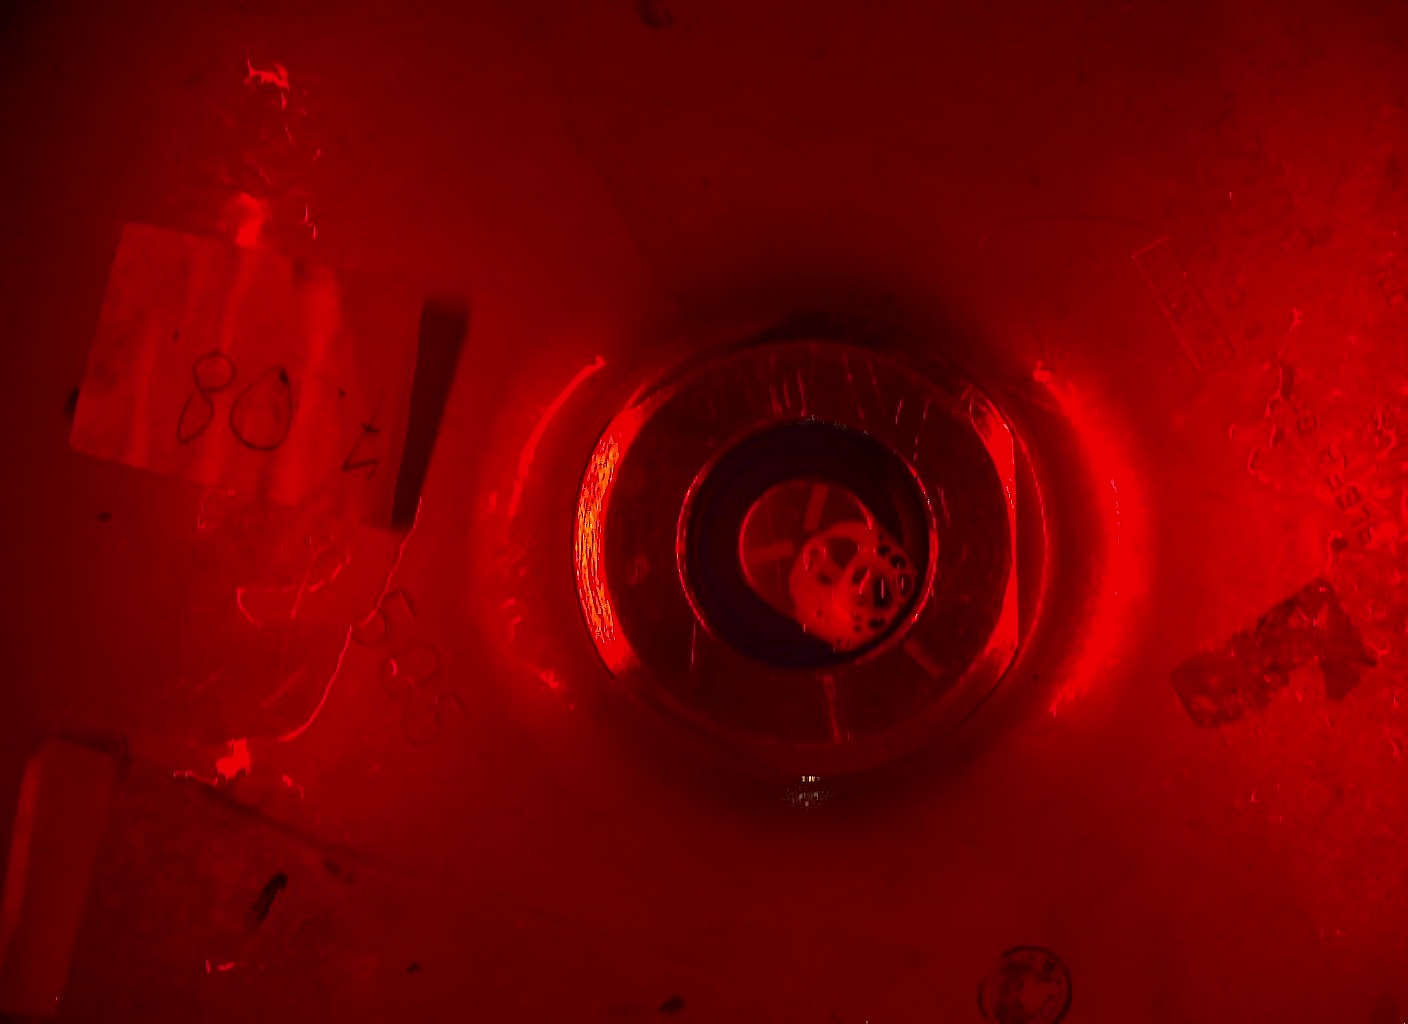pena: (787, 521, 915, 671)
